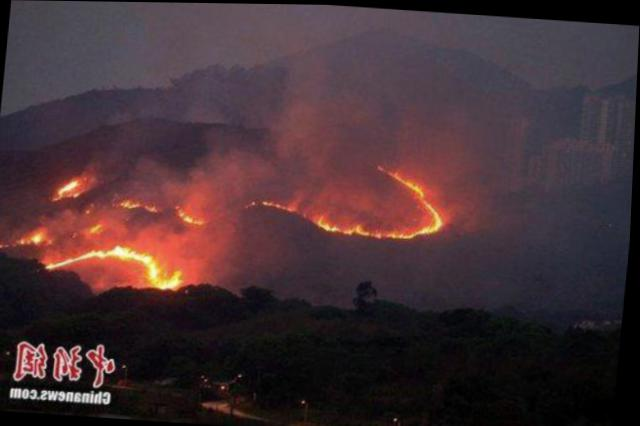fire: (57, 176, 86, 199), (119, 243, 155, 260), (155, 256, 170, 287), (168, 268, 186, 288), (358, 221, 385, 234), (389, 227, 424, 237), (33, 227, 50, 242), (184, 212, 206, 223), (435, 209, 446, 227), (89, 222, 105, 234), (333, 221, 354, 230), (121, 199, 144, 207), (416, 182, 430, 195), (319, 214, 334, 226), (95, 248, 120, 255), (426, 196, 438, 208), (46, 260, 62, 268), (147, 202, 161, 210), (64, 256, 76, 265), (395, 168, 406, 177), (178, 201, 189, 210), (79, 253, 94, 259), (22, 233, 30, 243), (427, 224, 435, 231), (408, 177, 415, 184)
